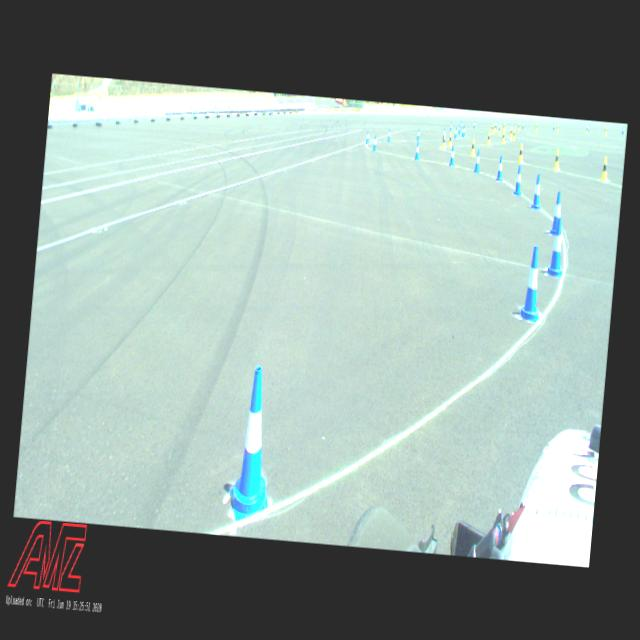blue_cone: (228, 364, 280, 524), (517, 245, 546, 322), (545, 218, 567, 278), (549, 190, 562, 232), (529, 173, 543, 210), (513, 165, 524, 196), (495, 154, 504, 182), (448, 145, 456, 166), (474, 150, 481, 172), (414, 140, 421, 160), (372, 135, 378, 151), (386, 128, 392, 142), (364, 130, 370, 144), (453, 127, 458, 138), (416, 128, 420, 141), (472, 120, 476, 128), (457, 124, 460, 134), (442, 128, 445, 138), (459, 120, 462, 130), (621, 126, 624, 134), (462, 125, 464, 136), (463, 125, 465, 136), (450, 122, 452, 131)
yellow_cone: (600, 156, 610, 182), (552, 148, 562, 172), (517, 144, 525, 162), (468, 138, 476, 156), (500, 130, 506, 144), (441, 133, 446, 149), (486, 132, 492, 144), (448, 132, 453, 146), (512, 128, 516, 139), (497, 125, 501, 135), (603, 126, 607, 136), (534, 122, 538, 131), (491, 122, 494, 134), (493, 122, 496, 132), (517, 122, 520, 131), (585, 125, 588, 134), (502, 122, 505, 130), (510, 127, 512, 138), (556, 124, 558, 132)
